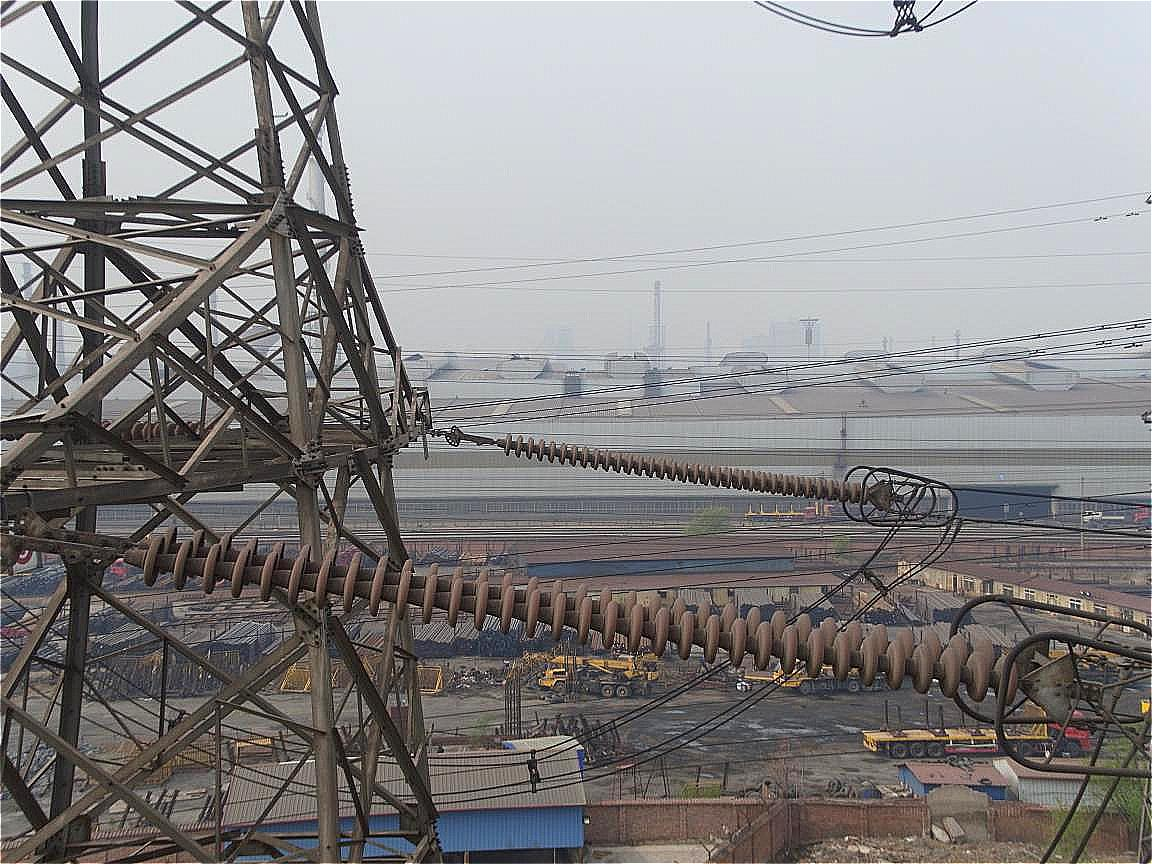insultor1: (111, 510, 1035, 716), (492, 418, 893, 509)
